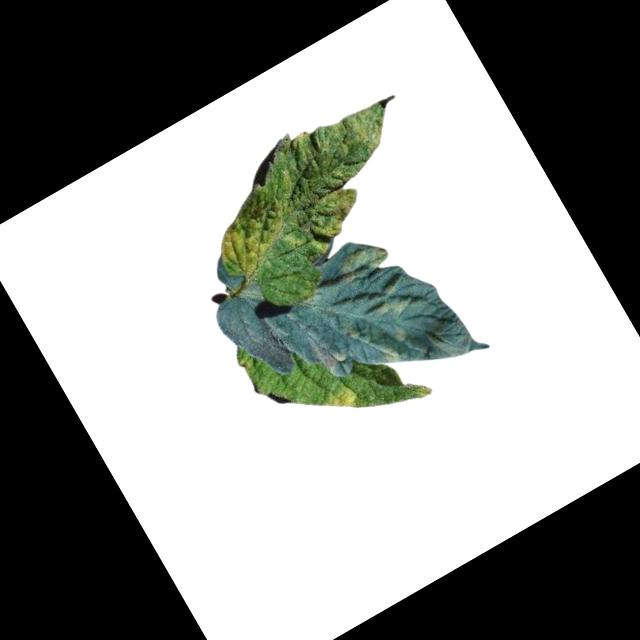Leaf_Mold: (183, 86, 435, 302), (334, 235, 395, 289), (360, 275, 415, 326), (315, 381, 363, 424), (308, 332, 349, 375)
